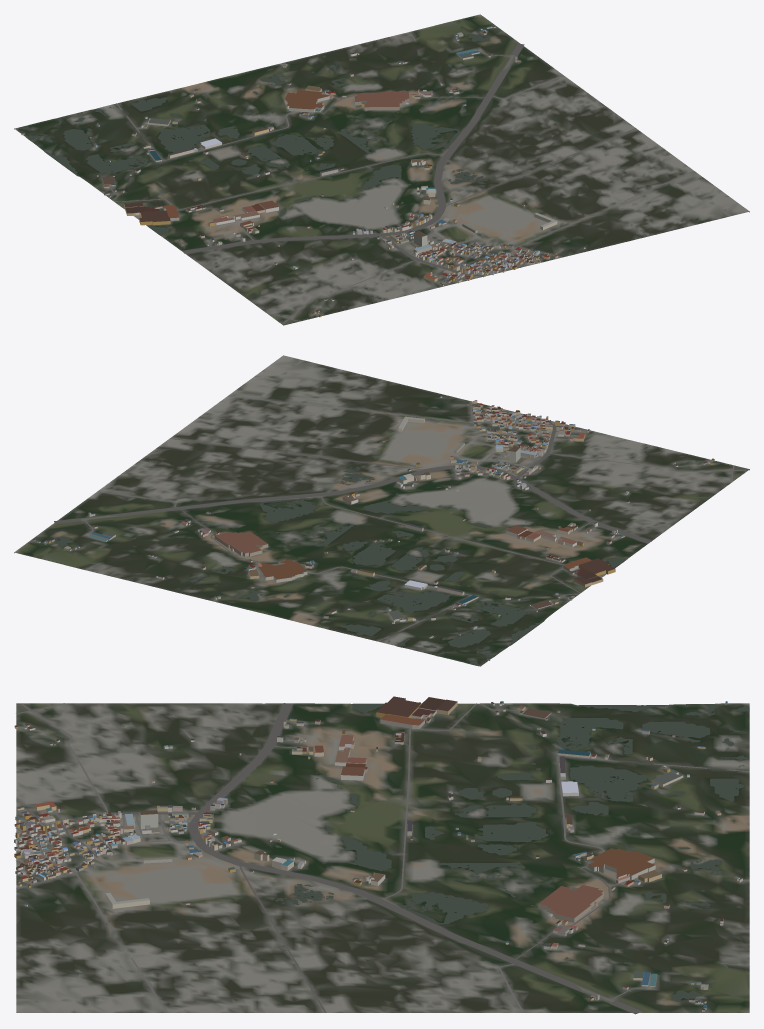
The picture shows the model from 3 angles, top to bottom: view 1: azimuth 30°, elevation 25°; view 2: azimuth 150°, elevation 25°; view 3: azimuth 270°, elevation 25°; orthographic projection. The views are drawn at different scales.
Visible parts, largest first — view 1: ground, buildings, water, roads; view 2: ground, buildings, water, roads; view 3: ground, buildings, water, roads.
Boxes of the visible parts, box(x1,y1,x2,y2) form: ground: box(14, 14, 749, 325); buildings: box(21, 26, 585, 317); water: box(18, 34, 540, 234); roads: box(109, 31, 694, 324); ground: box(14, 355, 749, 666); buildings: box(32, 396, 714, 660); water: box(56, 435, 625, 665); roads: box(54, 395, 745, 641); ground: box(16, 703, 749, 1012); buildings: box(14, 696, 742, 1011); water: box(175, 703, 748, 1001); roads: box(15, 703, 749, 1014).
Size of the model in its own units: 1422 by 37.34 by 1407.
